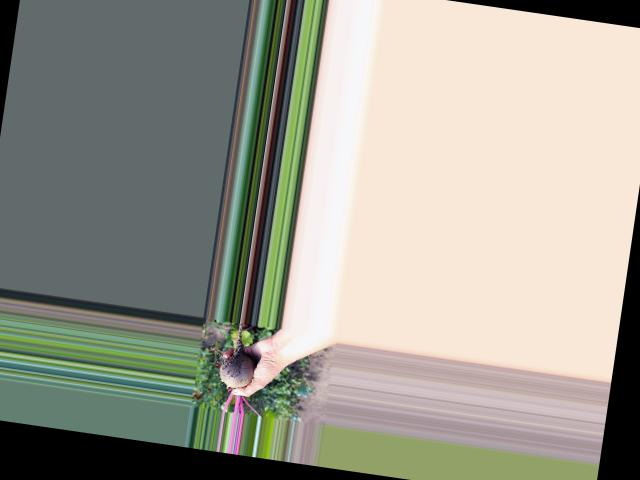beet: (200, 318, 274, 417)
